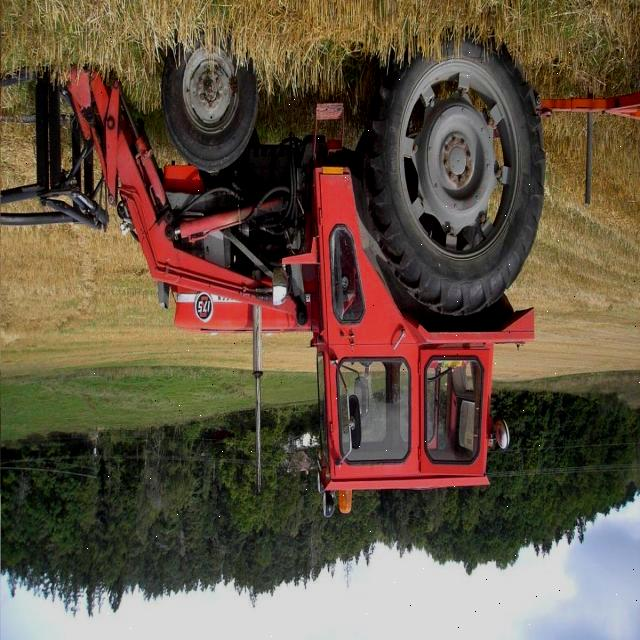Tratores - v5 YOLO V8L 2024-11-13: (161, 29, 555, 511)
